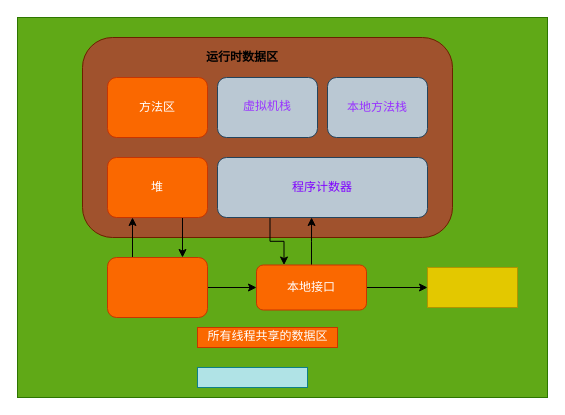
The diagram is 565 pixels wide and 415 high, and some of its shapes have lost their labels. The shapes that lost their labels are listed below. From the top down, each one's box as (x1, y1, x2, y2) in pixels, then its label:
(106, 256, 208, 318): 执行引擎
(426, 266, 518, 308): 本地方法库
(196, 366, 308, 388): 线程隔离的数据区
